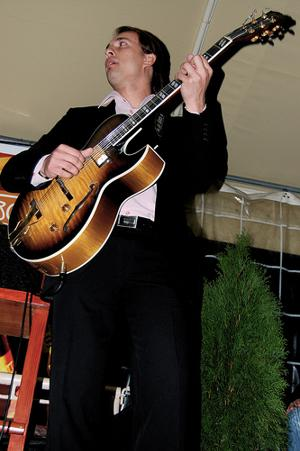person: (2, 27, 228, 449)
